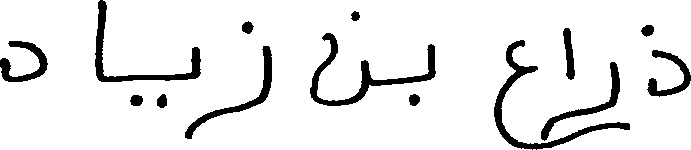ا: (91, 0, 107, 82), (560, 26, 576, 94)
ب: (404, 41, 436, 106)
د: (0, 39, 48, 82)
ذ: (646, 22, 690, 97)
ر: (574, 59, 619, 115)
ز: (221, 18, 272, 115)
ع: (491, 37, 537, 148)
ن: (309, 9, 370, 106)
ي: (124, 45, 200, 108)
